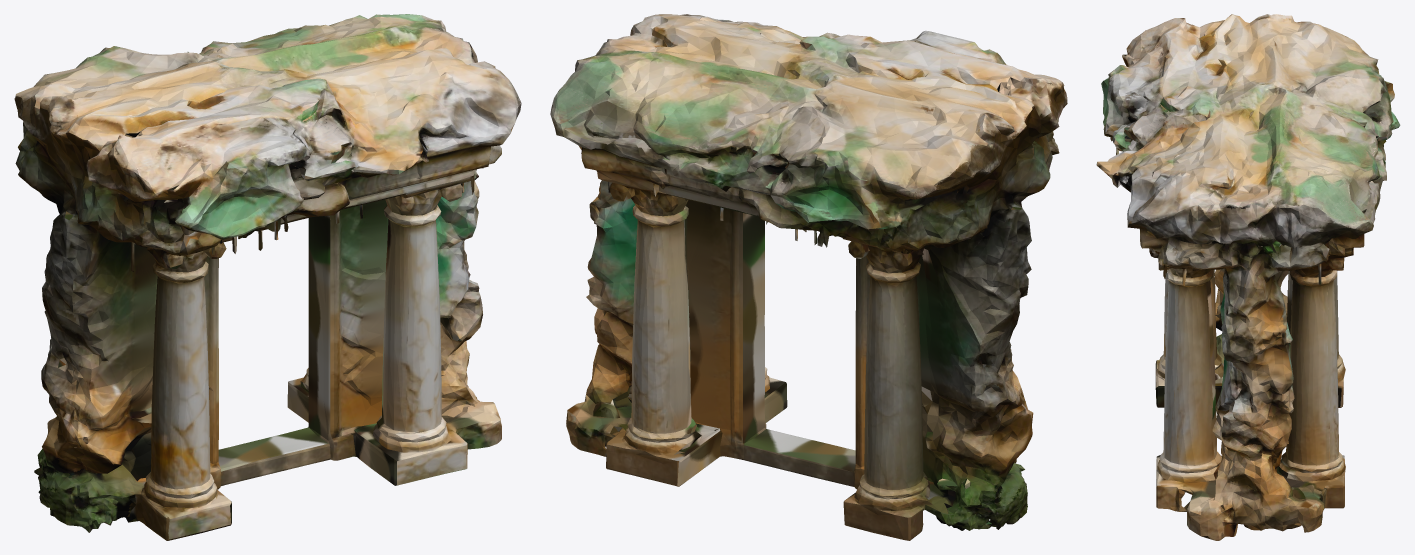
Rendered from traveler_env_coast_mouth_limestone_karst_teeth_00001_.glb.
3 renders of one model, left to right at view 1: azimuth 30°, elevation 25°; view 2: azimuth 150°, elevation 25°; view 3: azimuth 270°, elevation 25°, orthographic. The views are drawn at different scales.
Parts seen in each view (by area): view 1: temp_mesh.ply; view 2: temp_mesh.ply; view 3: temp_mesh.ply.
Part boxes in pixels (x1,y1,x2,y2): temp_mesh.ply: [14, 14, 521, 540]; temp_mesh.ply: [550, 14, 1067, 540]; temp_mesh.ply: [1096, 14, 1400, 540].
Size of the model in its own units: 1.98 by 1.85 by 1.42.
1 material, 1 textured.
